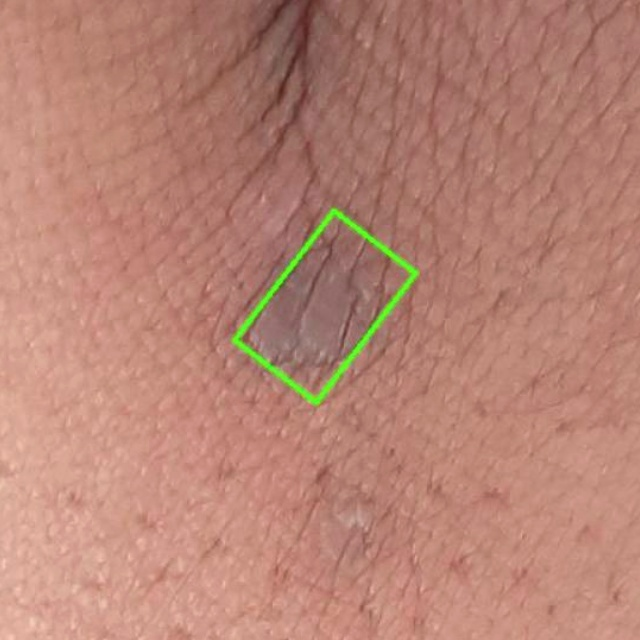Scabies: (234, 209, 415, 402)
